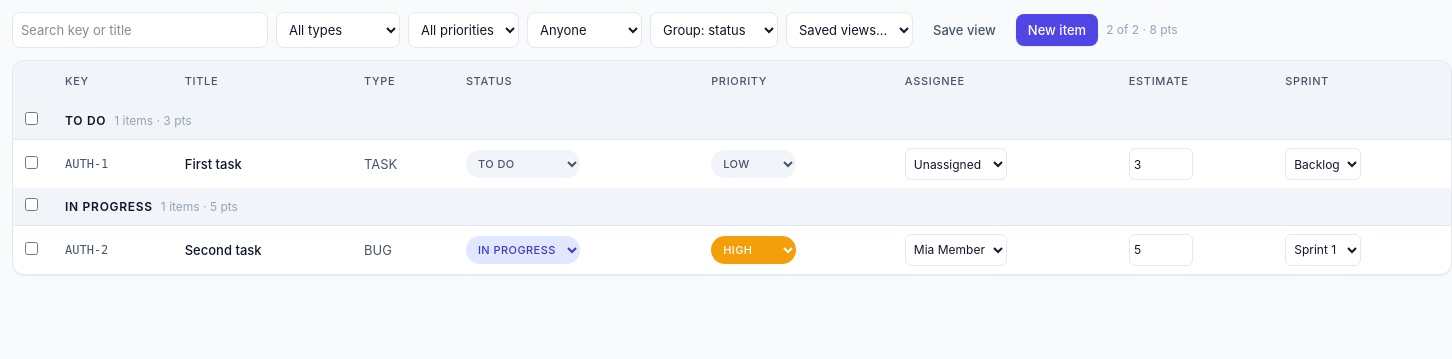
Test: BacklogClient › applies a priority to every selected item
Click the checkbox named "Select AUTH-1". click: (32, 162)
box: x1=25 y1=156 x2=38 y2=169
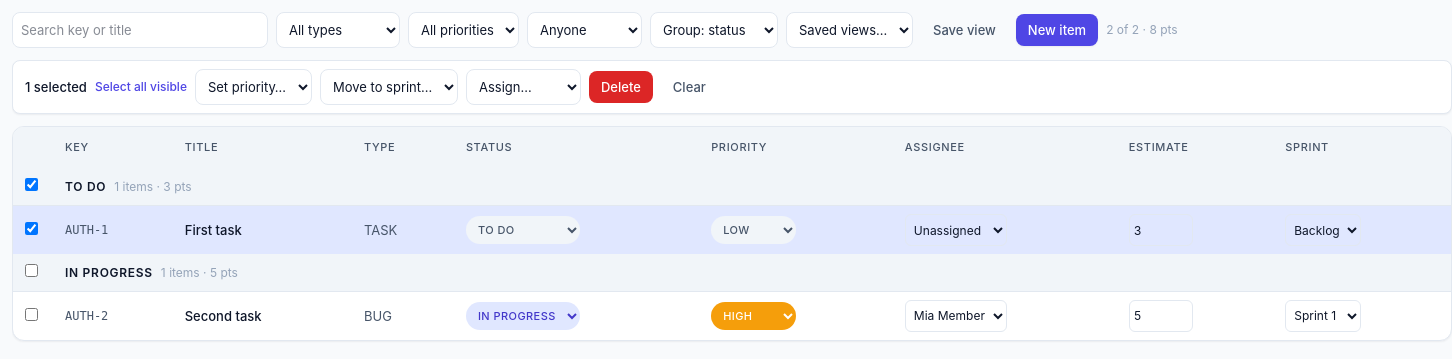
Click the checkbox named "Select AUTH-2". click: (32, 314)
box: x1=25 y1=308 x2=38 y2=321
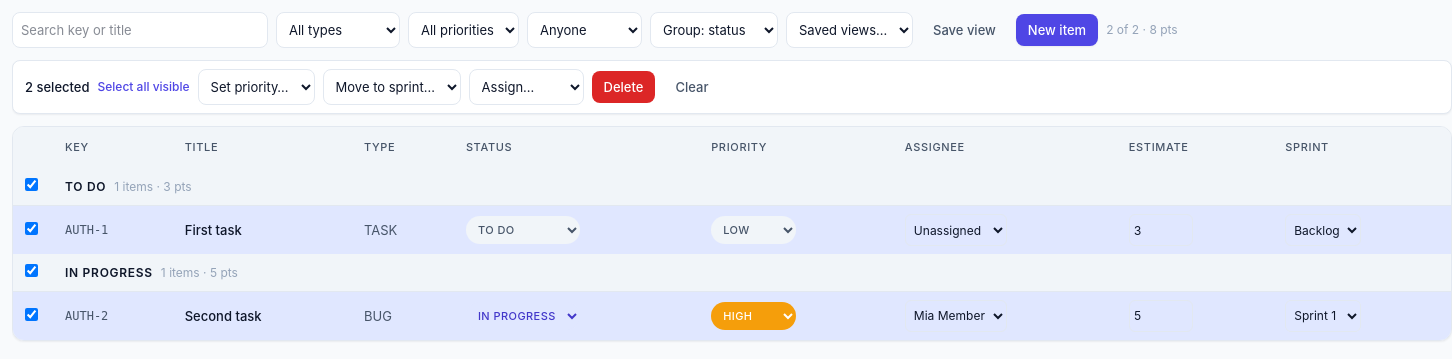
Select "URGENT" in the dropdown named "Set priority for selected items". click: (256, 87)
box: x1=198 y1=69 x2=315 y2=105
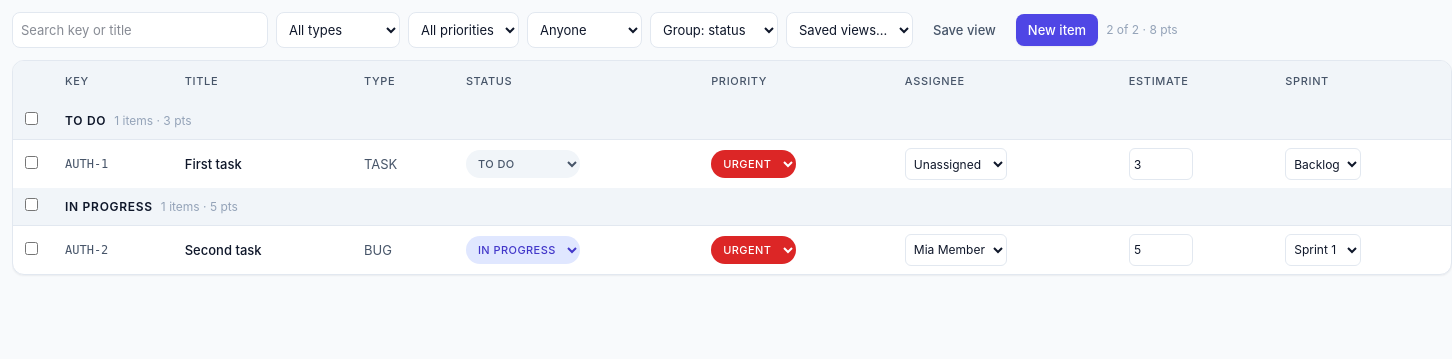
Expected: the element with test id "bulk-bar" is gone
